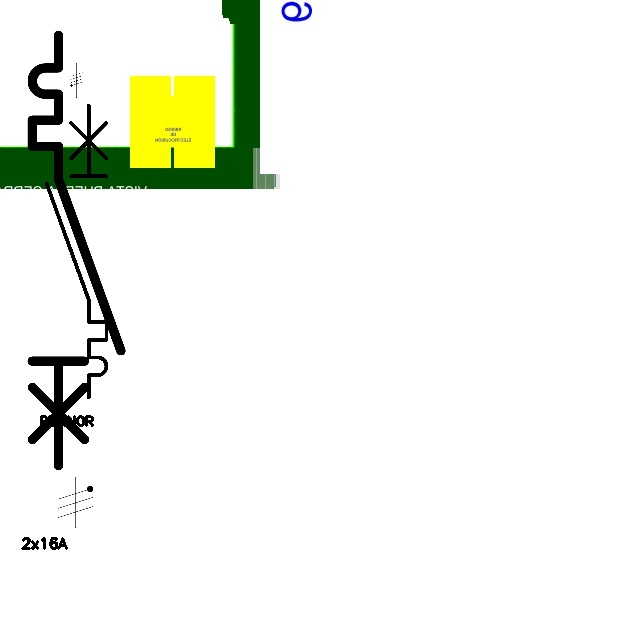interruptor_termomagnetico: (21, 24, 132, 477), (39, 97, 114, 404)
